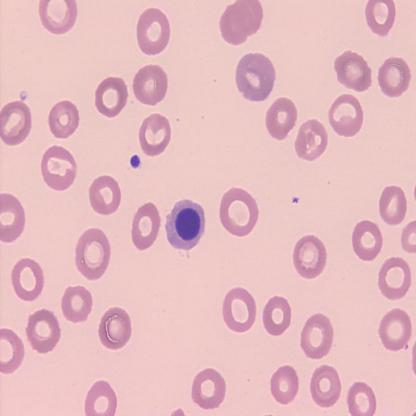NRC: (164, 198, 206, 251)
